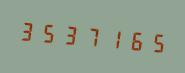five: (143, 24, 163, 59), (38, 15, 58, 49)
one: (101, 20, 121, 55)
seven: (80, 19, 100, 53)
six: (122, 22, 142, 57)
three: (17, 13, 37, 48), (59, 17, 79, 51)
